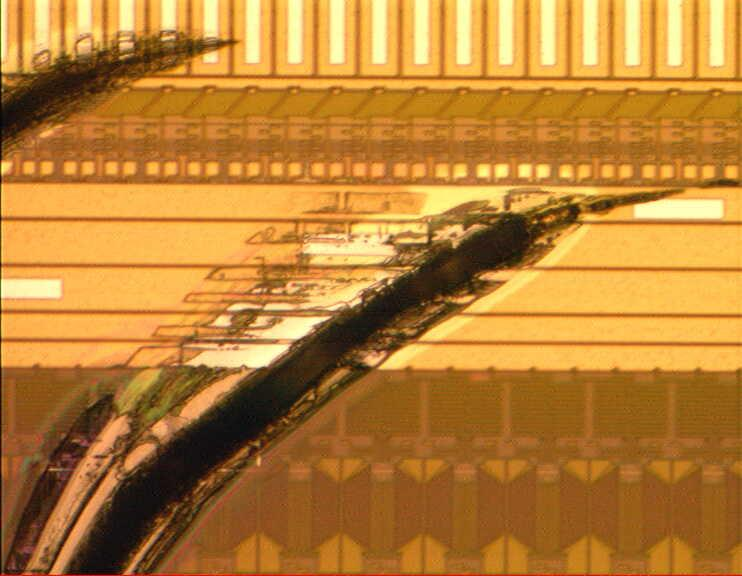SCRATCH: (1, 23, 741, 576)
